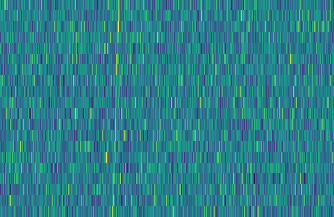signal: (106, 0, 121, 217)
